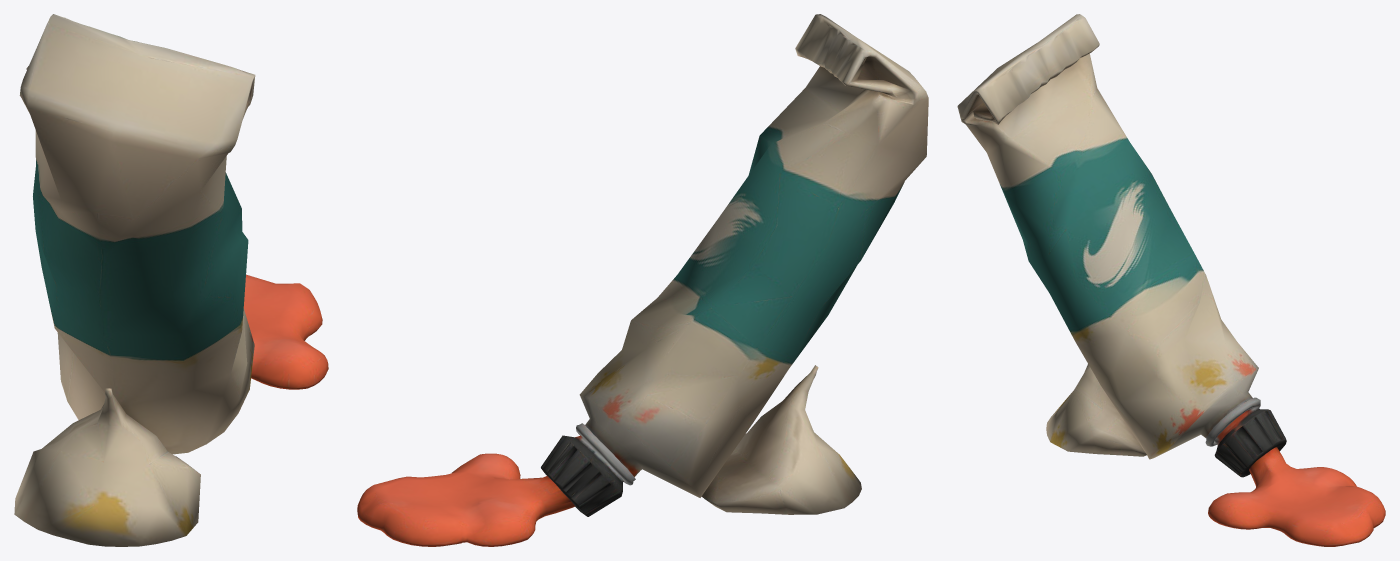
The model's file is ddef1ff2-paint-tube-web.glb.
3 renders of one model, left to right at view 1: azimuth 30°, elevation 25°; view 2: azimuth 150°, elevation 25°; view 3: azimuth 270°, elevation 25°, orthographic. The views are drawn at different scales.
Visible parts, largest first — view 1: tripo_node_79246d82-bd93-4fa4-a200-d1d6e72d0b39; view 2: tripo_node_79246d82-bd93-4fa4-a200-d1d6e72d0b39; view 3: tripo_node_79246d82-bd93-4fa4-a200-d1d6e72d0b39.
Part boxes in pixels (x1=…): tripo_node_79246d82-bd93-4fa4-a200-d1d6e72d0b39: x1=14, y1=14, x2=328, y2=546; tripo_node_79246d82-bd93-4fa4-a200-d1d6e72d0b39: x1=357, y1=14, x2=928, y2=546; tripo_node_79246d82-bd93-4fa4-a200-d1d6e72d0b39: x1=957, y1=14, x2=1385, y2=546.
Size of the model in its own units: 0.9434 by 0.998 by 0.998.
Materials: 1 (1 with a texture image).
